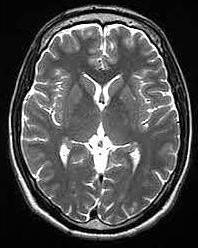Normal_Brain: (1, 1, 198, 245)
